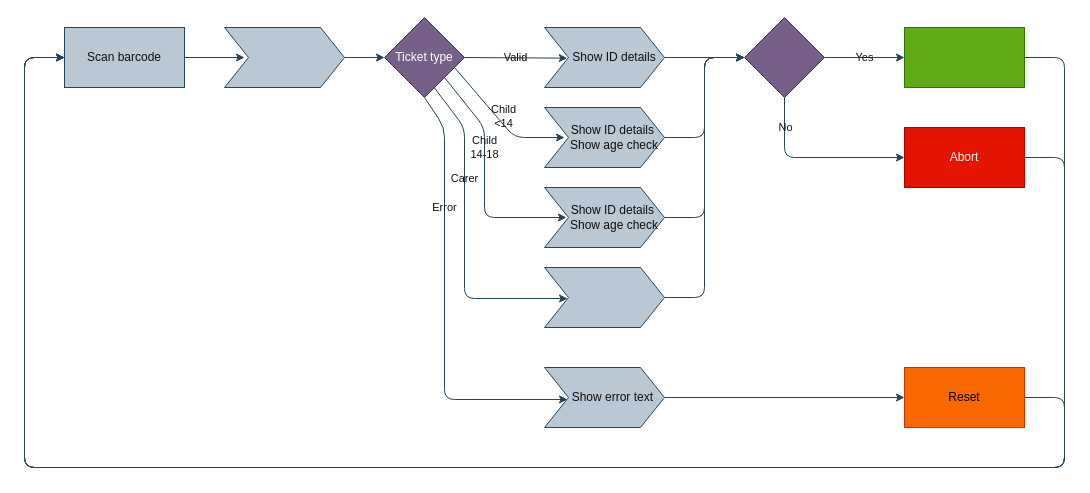
This 1090x493 diagram has some shape labels left out. The centre of each missing label's shape, as x and y in pixels:
Admit: (964,57)
Check barcode: (284,57)
Confirm: (784,57)
Show ID details Show waiver text: (604,297)
